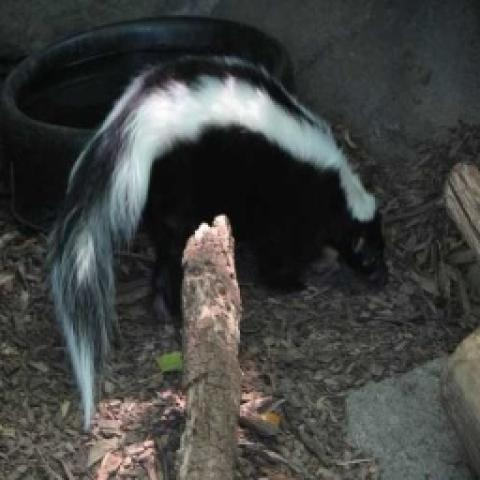small_animal: (41, 51, 392, 430)
